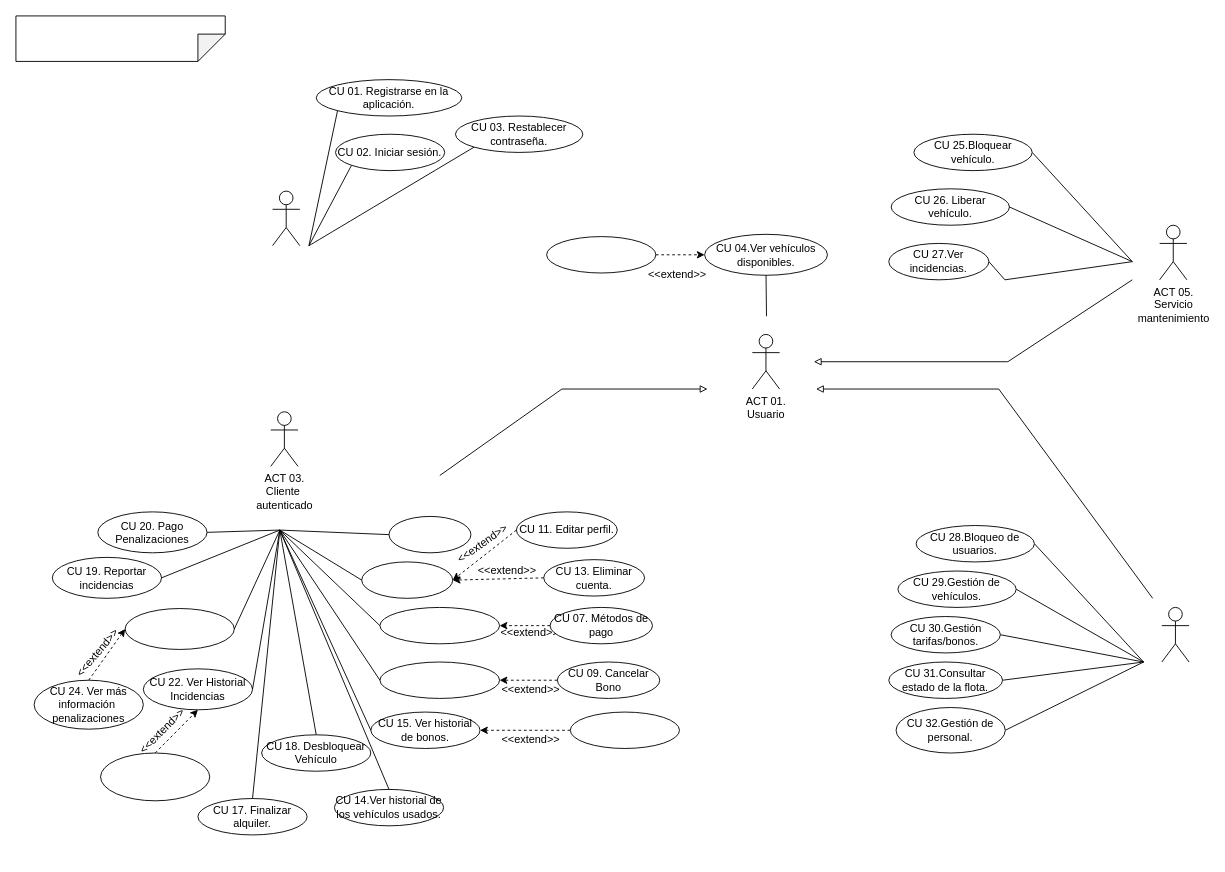
The diagram is 1225 pixels wide and 872 high, and some of its shapes have lost their labels. Each missing label, with the centre of its shape:
ACT 02. Cliente no autenticado: point (286, 218)
ACT 04. Administrador: point (1175, 634)
CU 05. Reservar Vehiculo: point (601, 254)
CU 06.Comprar bono.: point (439, 625)
CU 08.Ver Bono.: point (439, 679)
CU 10.Ver perfil.: point (407, 579)
CU 12. Cerrar Sesión.: point (429, 534)
CU 16. Extender bono.: point (624, 729)
CU 21. Ver Historial Penalizaciones: point (179, 628)
CU 23. Ver más información incidencias: point (155, 776)
Diagrama de Casos de Uso Completo (Fino): point (120, 38)
